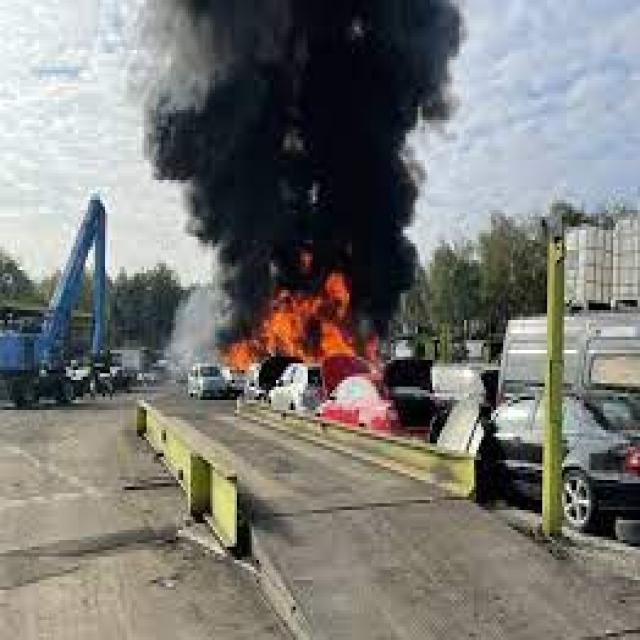fire: (220, 273, 364, 377)
smoke: (142, 3, 462, 307)
